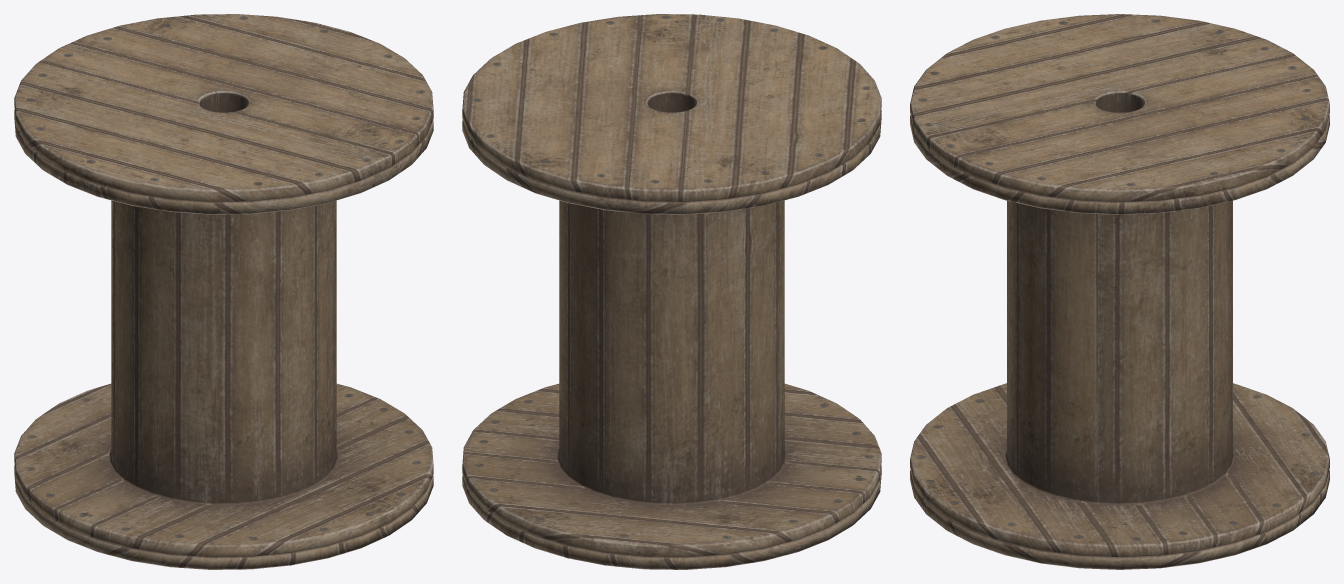
Rendered from kablo_makarasi.gltf.
3 views of the same model, side by side, from view 1: azimuth 30°, elevation 25°; view 2: azimuth 150°, elevation 25°; view 3: azimuth 270°, elevation 25° (orthographic).
Parts seen in each view (by area): view 1: kablo_makarasi; view 2: kablo_makarasi; view 3: kablo_makarasi.
Part boxes in pixels (<box>): kablo_makarasi: <box>14,14,433,569</box>; kablo_makarasi: <box>462,14,881,569</box>; kablo_makarasi: <box>910,14,1329,569</box>.
Size of what is drawn, in the model's own units: 0.886 by 0.886 by 0.886.
1 material, 1 textured.
